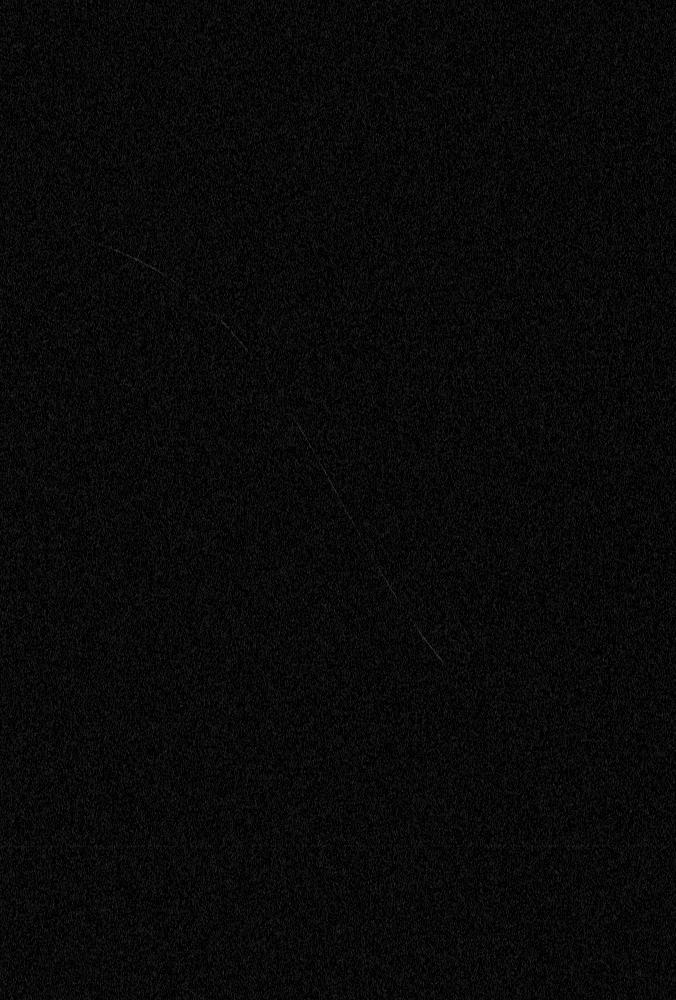signal: (0, 0, 675, 999)
